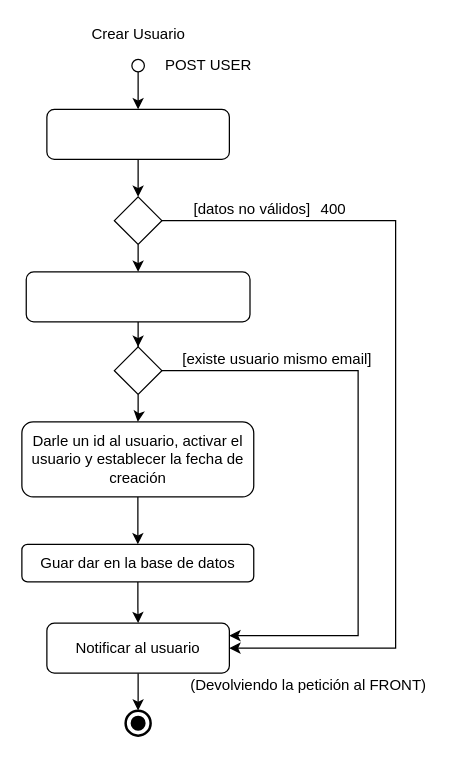
Some shapes in this 455 by 758 pixel diagram are drawn without their labels. Here are the shapes that lost their labels. From the top down, the centre of each, then its label:
[137,133]: Comprobar que los datos del usuario son válidos
[137,296]: Comprobar que no exista un usuario con el mismo email
